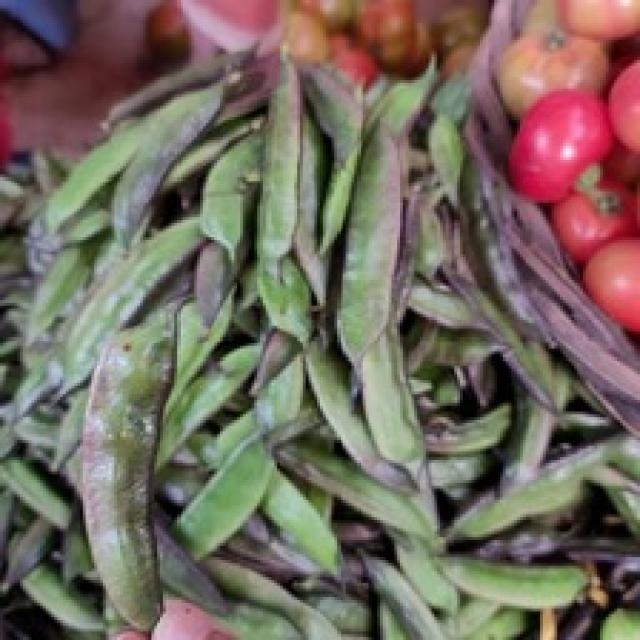Bean: (77, 91, 490, 625)
